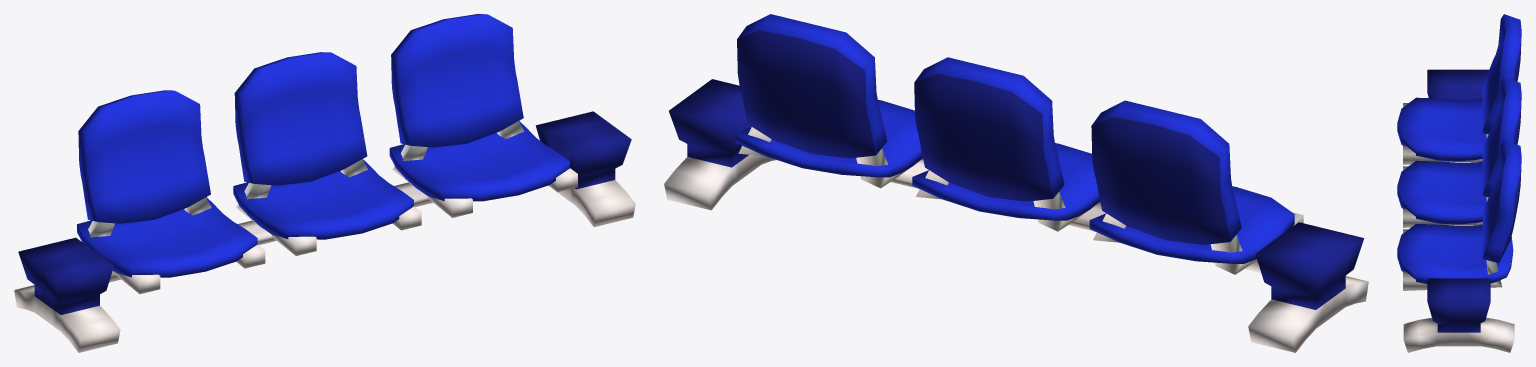
Rendered from CadeirasHospitalar3Lugares.fbx.
3 views of the same model, side by side, from view 1: azimuth 30°, elevation 25°; view 2: azimuth 150°, elevation 25°; view 3: azimuth 270°, elevation 25° (orthographic). The views are drawn at different scales.
Parts seen in each view (by area): view 1: CadeirasHospitalar3Lugares; view 2: CadeirasHospitalar3Lugares; view 3: CadeirasHospitalar3Lugares.
Part boxes in pixels (x1,y1,x2,y2): CadeirasHospitalar3Lugares: (14,14,635,352); CadeirasHospitalar3Lugares: (664,14,1368,352); CadeirasHospitalar3Lugares: (1397,14,1521,352).
Size of the model in its own units: 291 by 89.01 by 66.
1 material, 1 textured.
